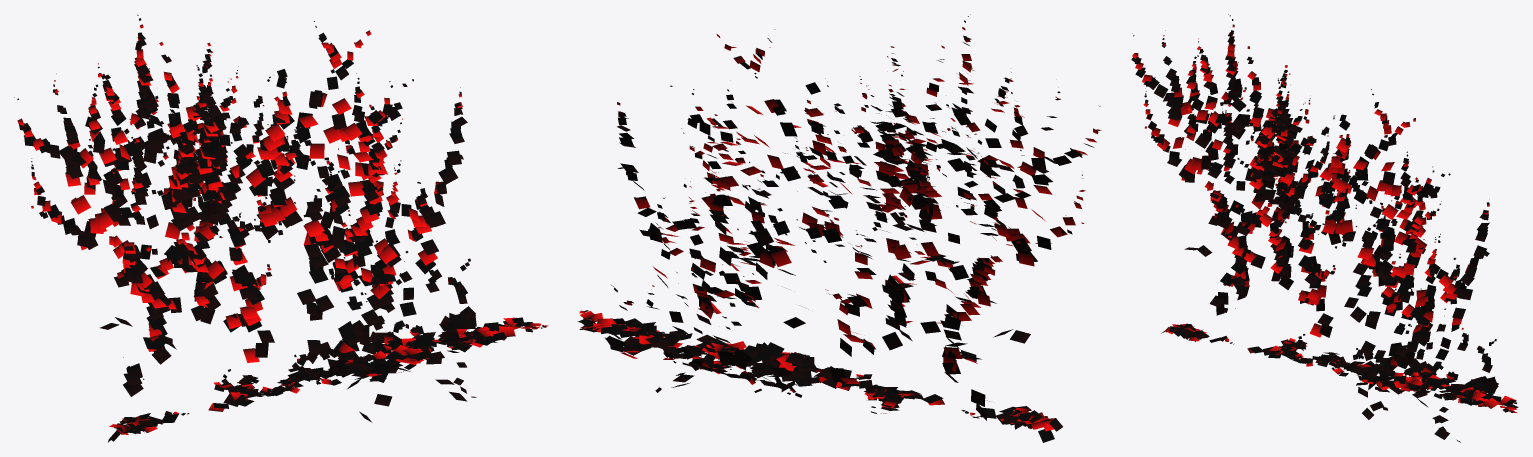
Rendered from Ivy2_Leaf.FBX.
3 renders of one model, left to right at view 1: azimuth 30°, elevation 25°; view 2: azimuth 150°, elevation 25°; view 3: azimuth 330°, elevation 25°, orthographic. The views are drawn at different scales.
Parts seen in each view (by area): view 1: Ivy2 (×2); view 2: Ivy2 (×2); view 3: Ivy2 (×2).
Boxes of the visible parts, left/top/right/bottom form: Ivy2 (×2): left=14, top=14, right=547, bottom=442; Ivy2 (×2): left=577, top=14, right=1101, bottom=442; Ivy2 (×2): left=1131, top=14, right=1518, bottom=442.
Size of the model in its own units: 464 by 387 by 66.59.
